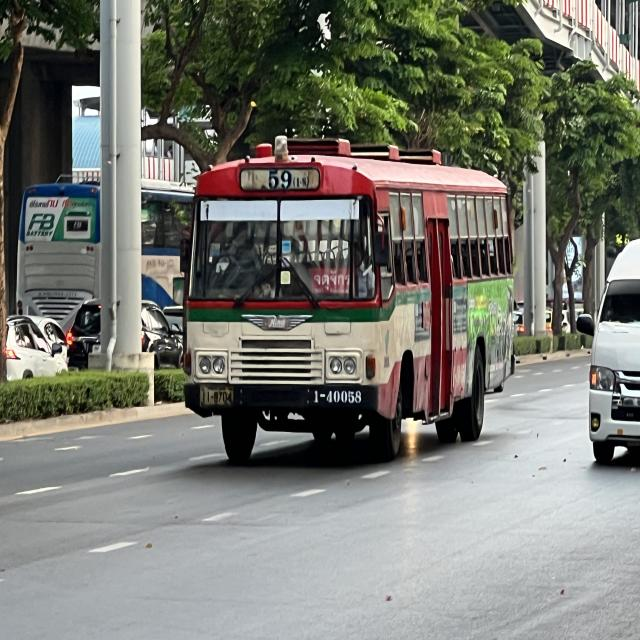BMTA-bus: (178, 130, 516, 475)
Bus-Line-Number: (242, 167, 321, 191)
Destination-Sign-Extra-Bus: (307, 269, 359, 300)
